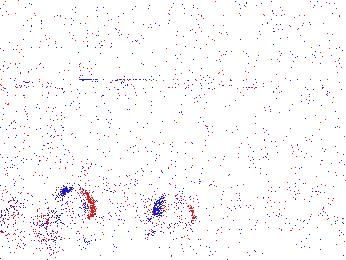flame jellyfish: (142, 194, 198, 241), (16, 96, 66, 148), (36, 188, 94, 232)
